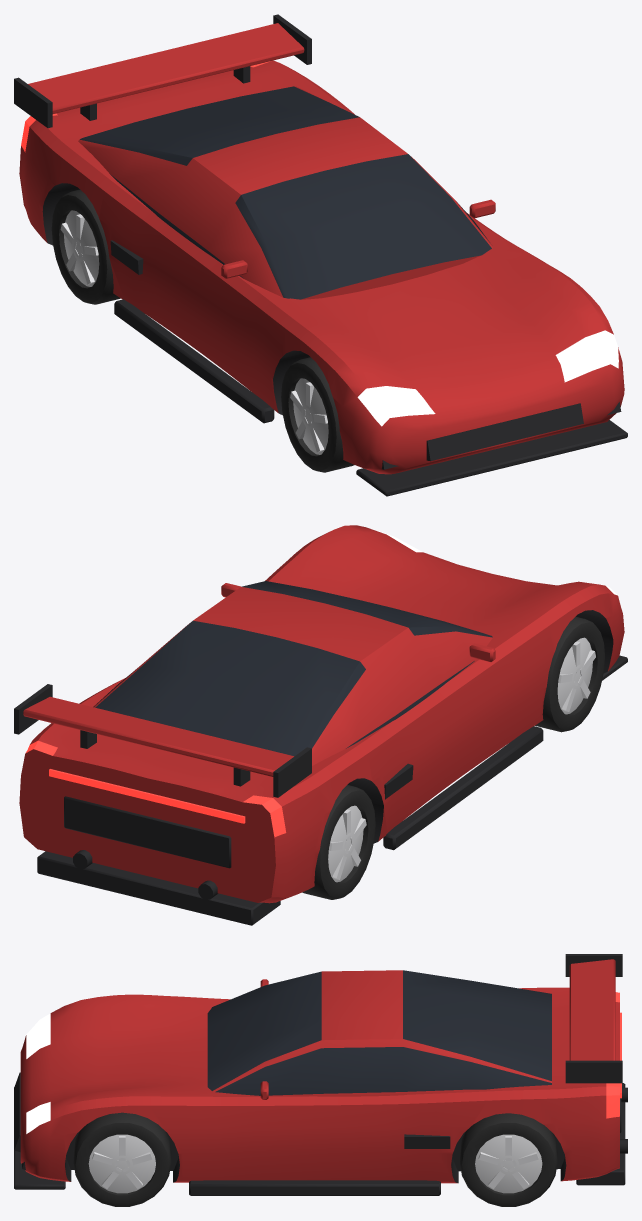
Rendered from car.glb.
3 renders of one model, top to bottom at view 1: azimuth 30°, elevation 25°; view 2: azimuth 150°, elevation 25°; view 3: azimuth 270°, elevation 25°, orthographic. The views are drawn at different scales.
Visible parts, largest first — view 1: Body, WheelFR, WheelRR; view 2: Body, WheelFR, WheelRR; view 3: Body, WheelFL, WheelRL.
Boxes of the visible parts, x1,y1,x2,y2 form: Body: (14,14,627,496); WheelFR: (281,357,354,472); WheelRR: (51,189,120,304); Body: (14,525,627,925); WheelFR: (535,616,604,732); WheelRR: (302,785,375,899); Body: (14,954,627,1195); WheelFL: (73,1112,171,1206); WheelRL: (460,1113,557,1206).
Size of the model in its own units: 2.02 by 1.24 by 4.53.
